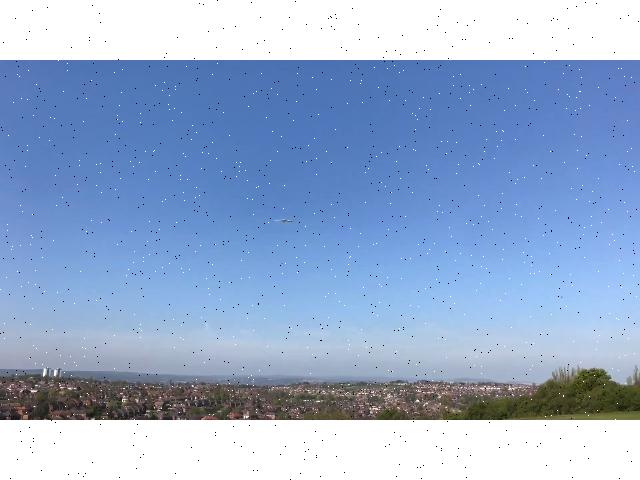Anti-Drone: (268, 218, 300, 226)
